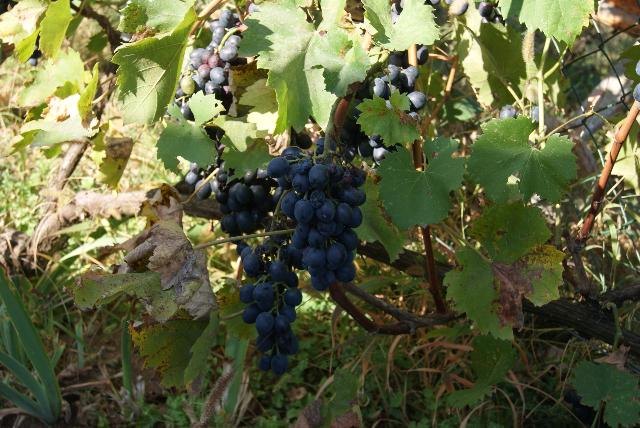grapes: (280, 151, 366, 290), (175, 10, 248, 121), (240, 261, 302, 355)
